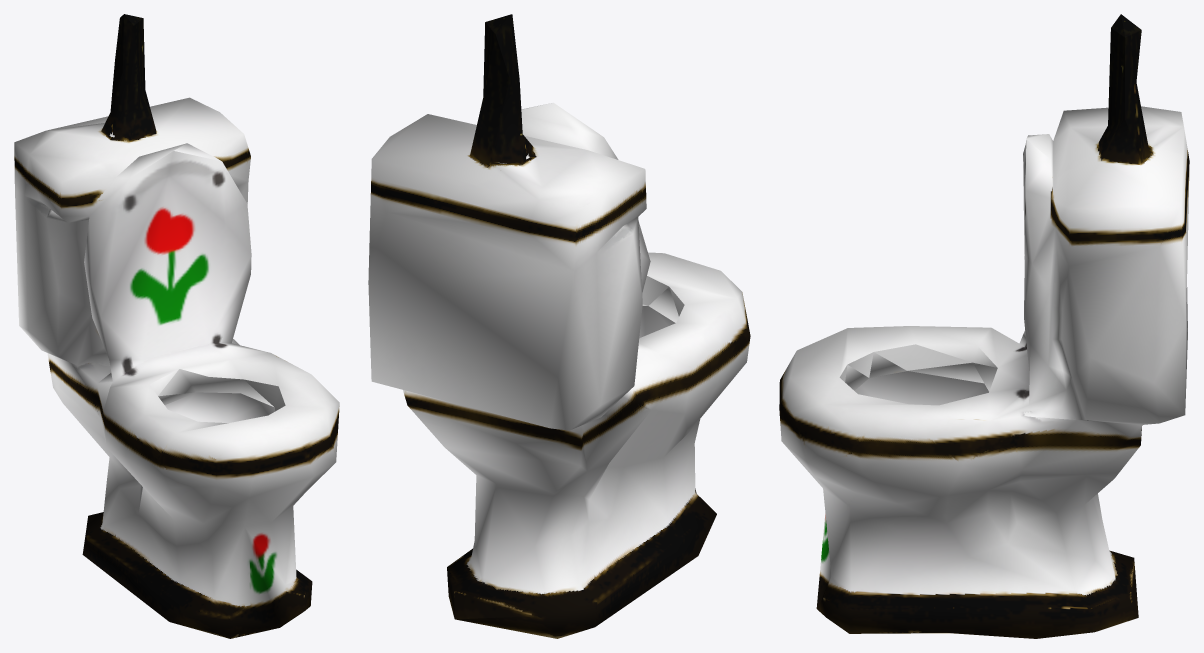
File: victorian-high-tank.glb
The picture shows the model from 3 angles, left to right: view 1: azimuth 30°, elevation 25°; view 2: azimuth 150°, elevation 25°; view 3: azimuth 270°, elevation 25°; orthographic projection. The views are drawn at different scales.
Parts seen in each view (by area): view 1: geometry_0.001; view 2: geometry_0.001; view 3: geometry_0.001.
Boxes of the visible parts, box(x1,y1,x2,y2) form: geometry_0.001: box(14, 14, 339, 638); geometry_0.001: box(368, 14, 750, 638); geometry_0.001: box(779, 14, 1189, 638).
Bounding box in the file's own units: 0.3908 × 0.9996 × 0.6331.
1 material, 1 textured.
